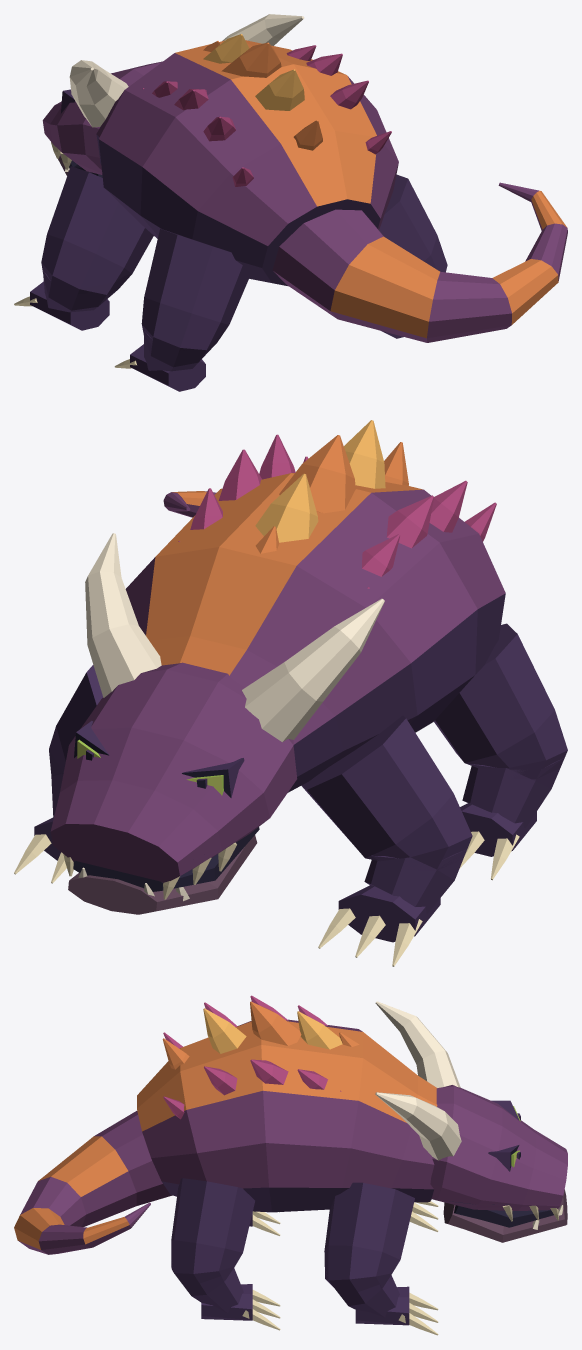
Rendered from CaveGuardian_D3-15.fbx.
3 renders of one model, top to bottom at view 1: azimuth 30°, elevation 25°; view 2: azimuth 150°, elevation 25°; view 3: azimuth 270°, elevation 25°, orthographic. The views are drawn at different scales.
Visible parts, largest first — view 1: Body, Tail, Leg_BL, Leg_FL, Head, Leg_BR, Shin_FL, Shin_BL; view 2: Body, Head, Leg_FL, Leg_BL, Jaw, Shin_FL, Shin_BL, Leg_FR, Shin_FR, Tail; view 3: Body, Head, Tail, Leg_FR, Leg_BR, Jaw, Shin_FR, Shin_BR, Shin_FL.
Part boxes in pixels (x1,y1,x2,y2): Body: (96, 34, 398, 286); Tail: (272, 182, 567, 342); Leg_BL: (141, 228, 248, 351); Leg_FL: (41, 166, 153, 294); Head: (42, 14, 304, 173); Leg_BR: (379, 174, 447, 272); Shin_FL: (14, 270, 131, 330); Shin_BL: (114, 327, 227, 391); Body: (125, 420, 505, 792); Head: (50, 533, 384, 872); Leg_FL: (301, 715, 472, 870); Leg_BL: (434, 623, 567, 779); Jaw: (52, 827, 259, 914); Shin_FL: (318, 835, 467, 966); Shin_BL: (451, 746, 563, 880); Leg_FR: (49, 665, 102, 776); Shin_FR: (14, 773, 66, 883); Tail: (163, 491, 216, 517); Body: (137, 995, 437, 1212); Head: (375, 1001, 567, 1209); Tail: (14, 1111, 172, 1254); Leg_FR: (324, 1182, 414, 1291); Leg_BR: (171, 1178, 254, 1283); Jaw: (431, 1189, 567, 1242); Shin_FR: (324, 1266, 438, 1335); Shin_BR: (171, 1259, 280, 1330); Shin_FL: (409, 1201, 438, 1231).
Bounding box in the file's own units: 1.95 × 1.54 × 2.86.
Materials: 1 (1 with a texture image).
